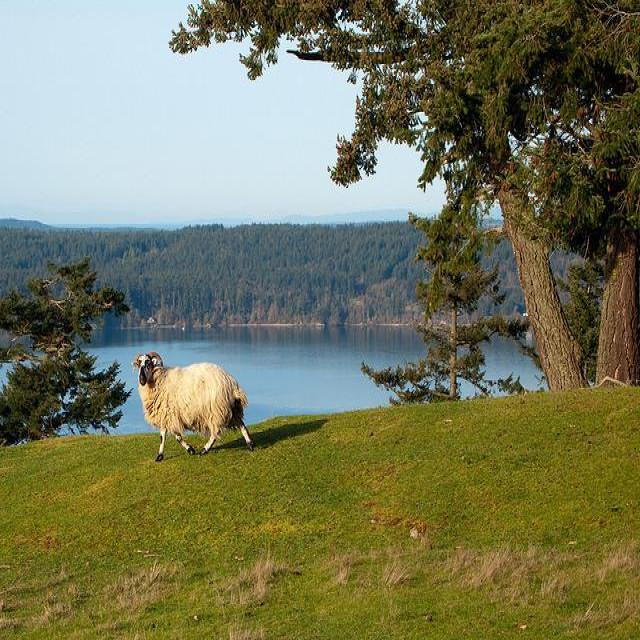Sheep: (132, 352, 256, 464)
